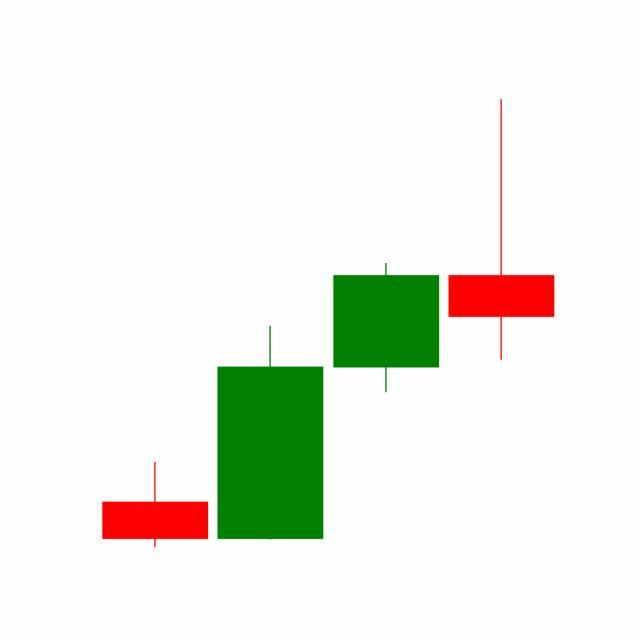Spinning Top: (444, 97, 560, 364)
